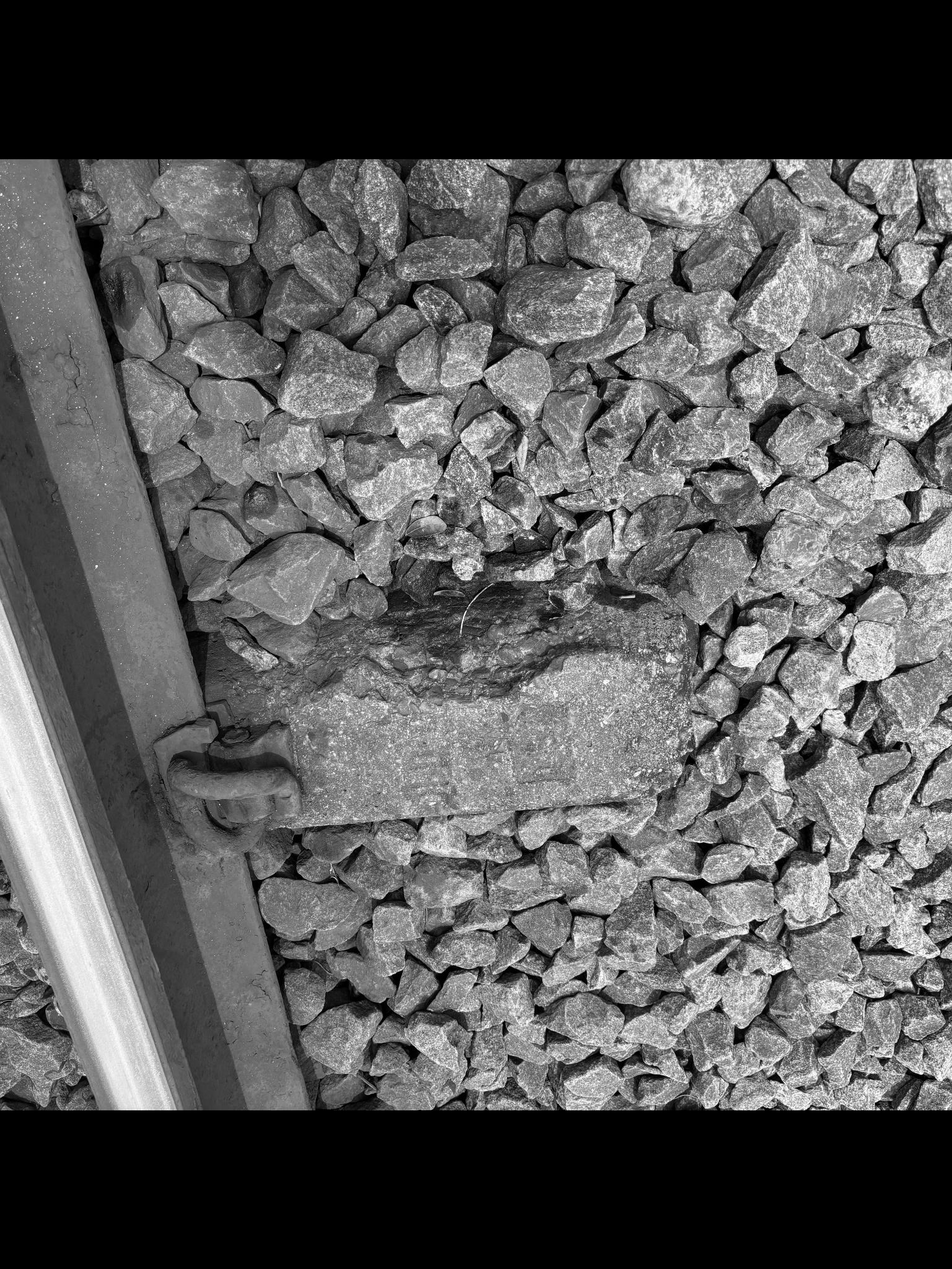cracks under rail seat: (244, 602, 672, 718)
